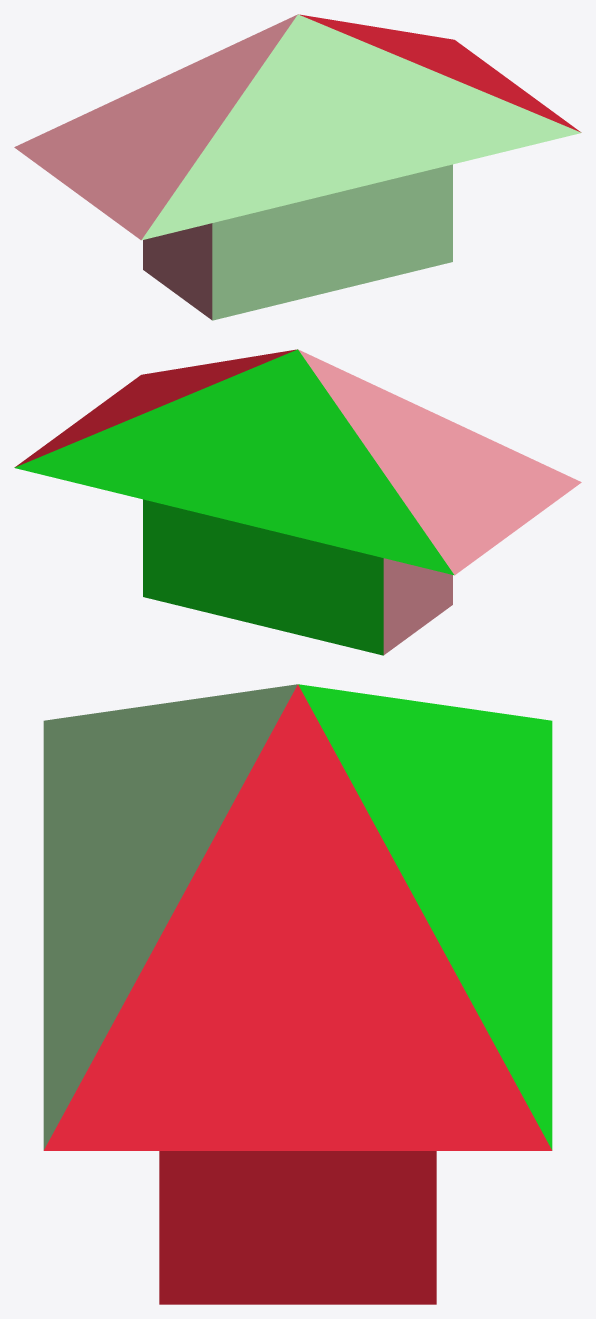
Rendered from castle2.glb.
The picture shows the model from 3 angles, top to bottom: view 1: azimuth 30°, elevation 25°; view 2: azimuth 150°, elevation 25°; view 3: azimuth 270°, elevation 25°; orthographic projection. The views are drawn at different scales.
Visible parts, largest first — view 1: Cube; view 2: Cube; view 3: Cube.
Boxes of the visible parts, x1=… form: Cube: x1=14, y1=14, x2=581, y2=320; Cube: x1=14, y1=349, x2=581, y2=655; Cube: x1=43, y1=684, x2=552, y2=1304.
Bounding box in the file's own units: 7.33 × 4 × 3.67.
